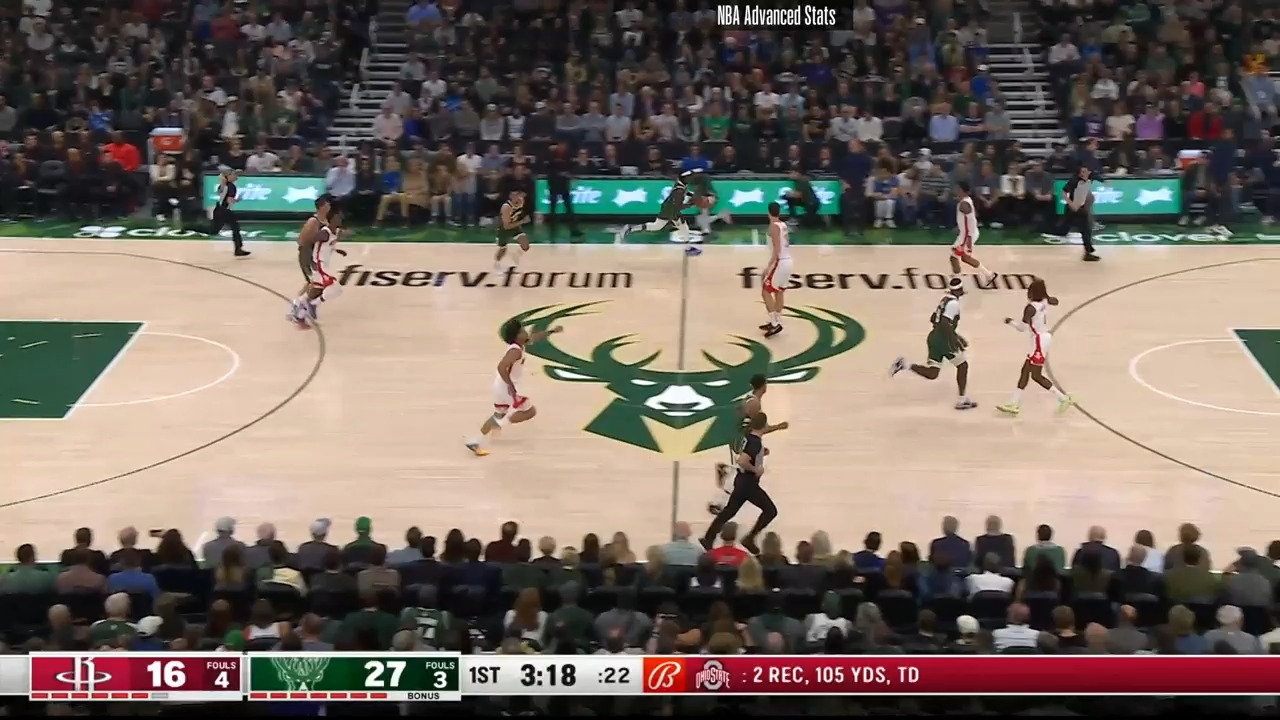player: (467, 318, 561, 461), (890, 280, 982, 414), (998, 278, 1074, 422), (618, 167, 716, 260), (288, 194, 354, 328), (715, 372, 790, 479), (746, 198, 798, 345), (468, 188, 529, 293), (946, 183, 1000, 296), (298, 197, 332, 282)
referee: (699, 409, 783, 547), (208, 145, 255, 261), (1068, 165, 1107, 270)
